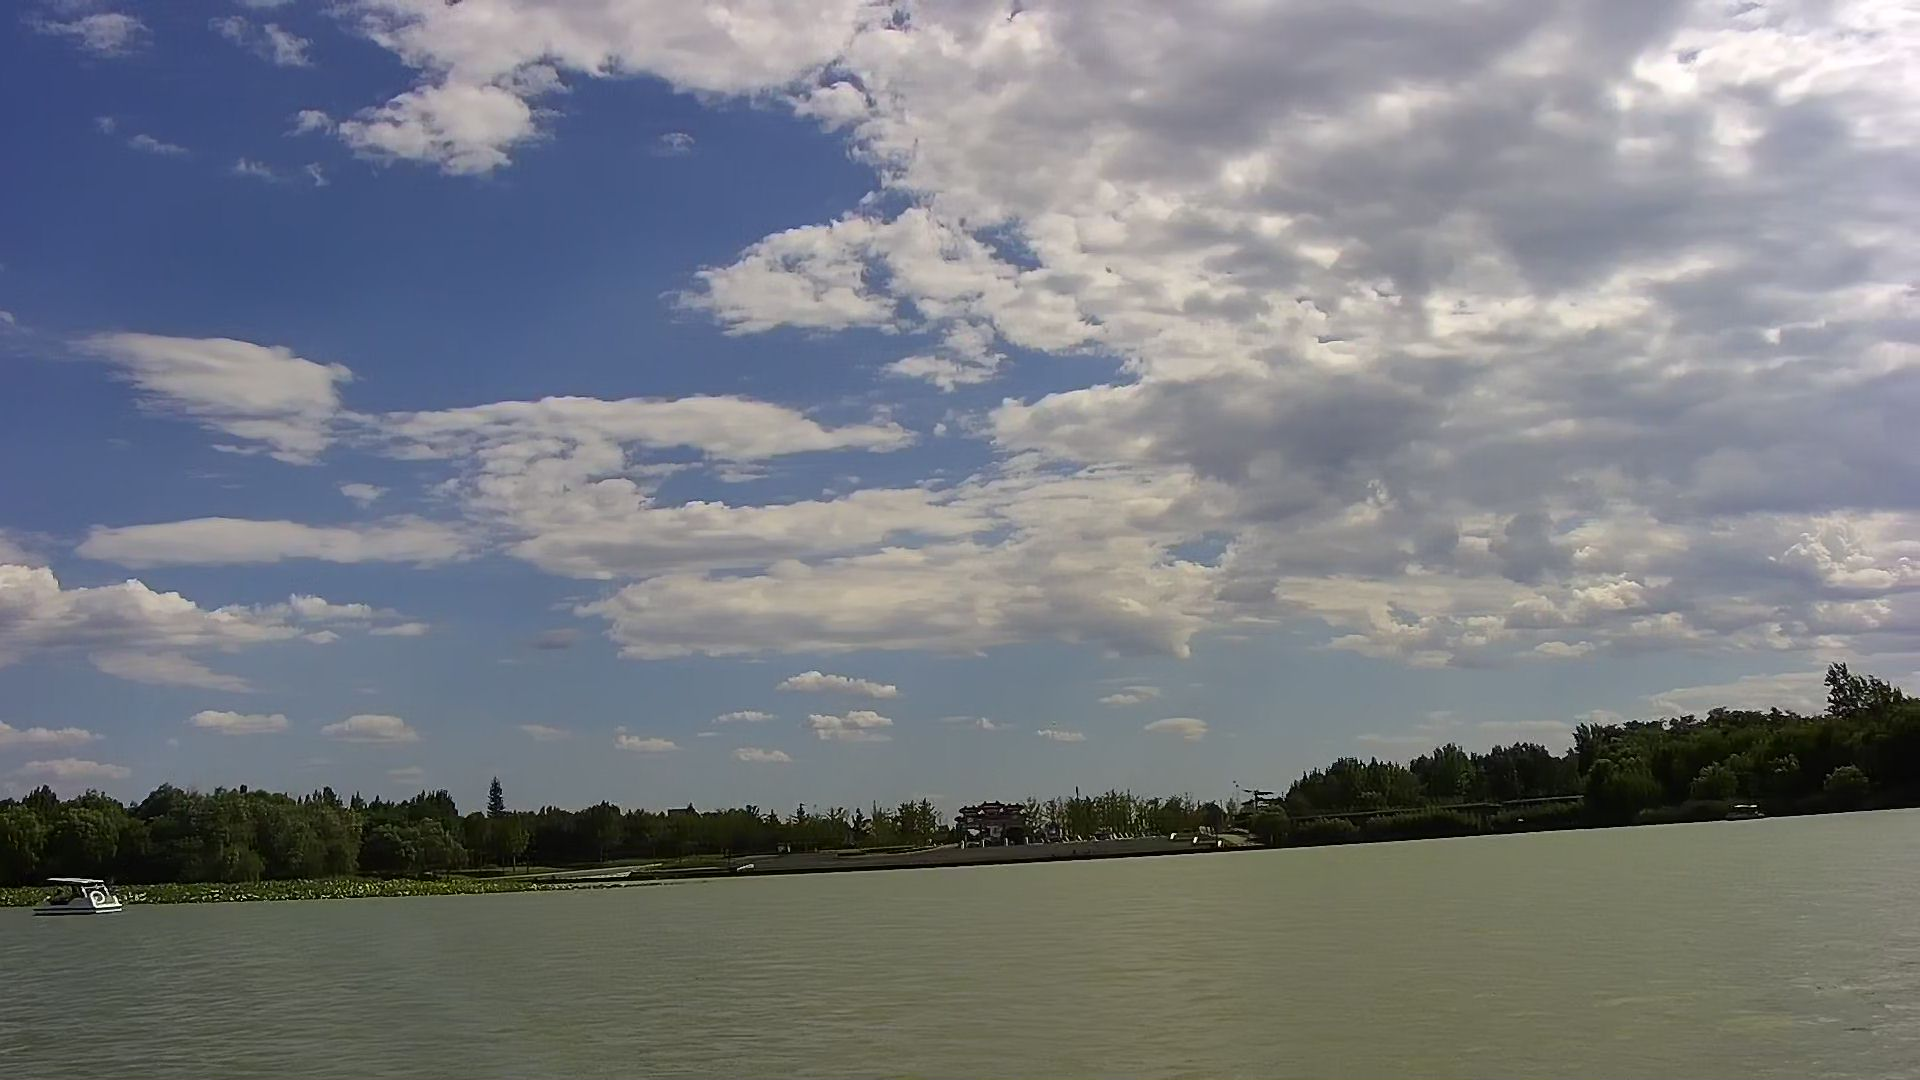boat: (26, 873, 128, 918)
